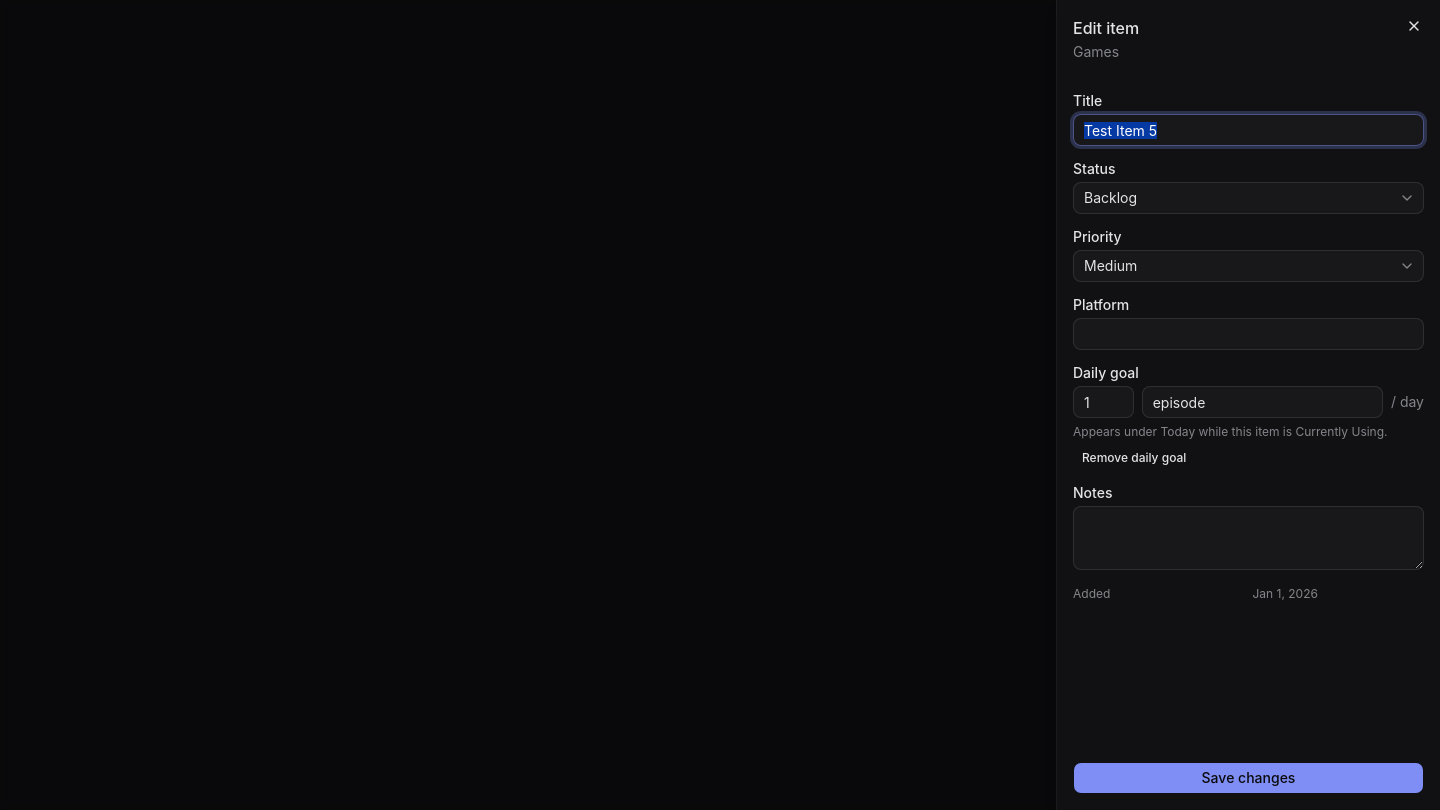
ItemDetailDrawer daily goals › blocks saving a goal with no unit
Clear the field named "Daily goal unit" at (1262, 402), box [1142, 386, 1383, 418]
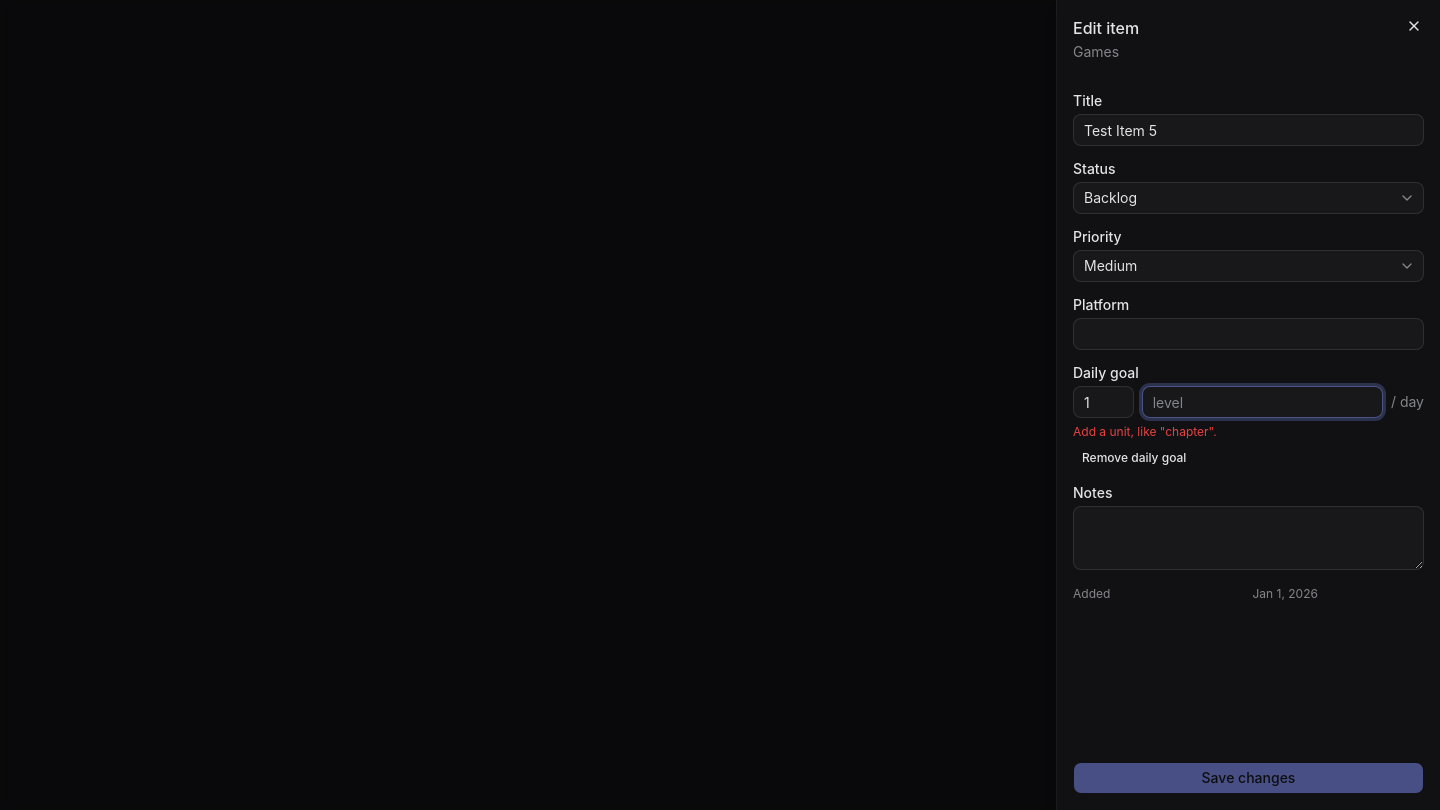
expect the text "Add a unit, like \"chapter\"." is shown: met, box [1073, 424, 1217, 439]
expect the button "Save changes" is disabled: met, box [1073, 762, 1424, 794]
